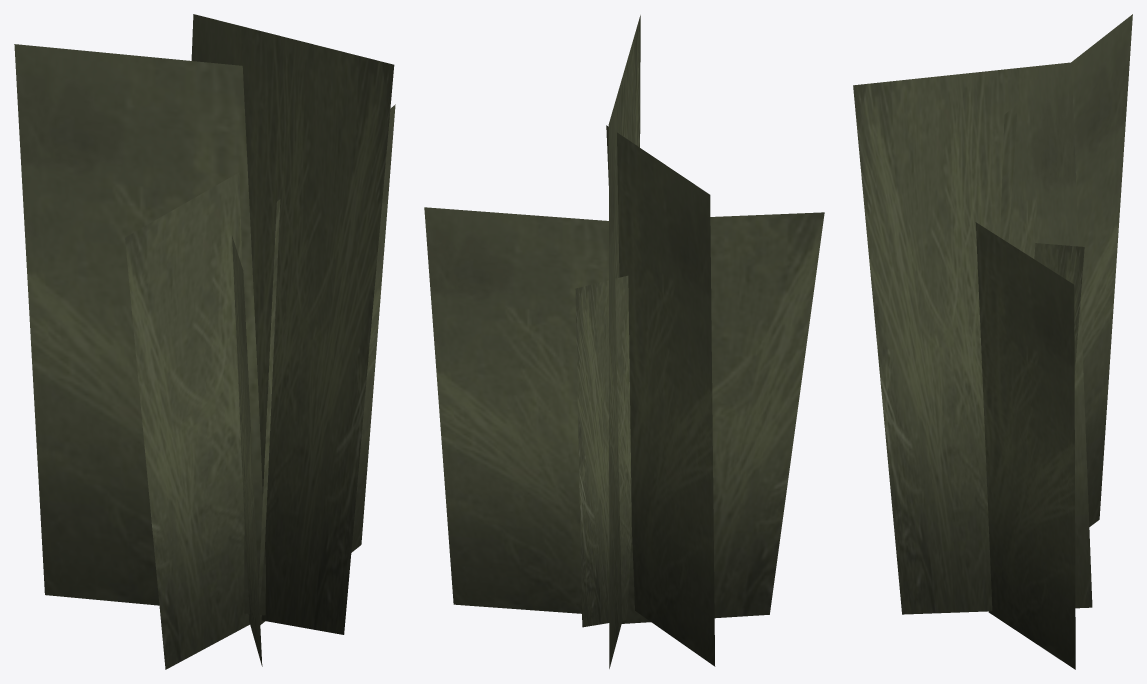
Rendered from pir_m_prp_vol_bush_a.fbx.
3 renders of one model, left to right at view 1: azimuth 30°, elevation 25°; view 2: azimuth 150°, elevation 25°; view 3: azimuth 270°, elevation 25°, orthographic. The views are drawn at different scales.
Parts seen in each view (by area): view 1: bush_plane01, bush_plane02, bush_plane03, bush_plane05, bush_plane04; view 2: bush_plane05, bush_plane01, bush_plane03, bush_plane04, bush_plane02; view 3: bush_plane02, bush_plane05, bush_plane01, bush_plane04.
Boxes of the visible parts, x1,y1,x2,y2 form: bush_plane01: (14,44,265,615); bush_plane02: (191,14,394,634); bush_plane03: (125,172,249,669); bush_plane05: (258,104,395,624); bush_plane04: (232,236,262,666); bush_plane05: (424,207,608,613); bush_plane01: (606,125,715,666); bush_plane03: (621,212,824,623); bush_plane04: (575,275,631,627); bush_plane02: (608,15,640,668); bush_plane02: (853,62,1092,614); bush_plane05: (975,222,1075,669); bush_plane01: (988,14,1132,557); bush_plane04: (1034,243,1084,374).
Size of the model in its own units: 317 by 518 by 232.
1 material, 1 textured.
